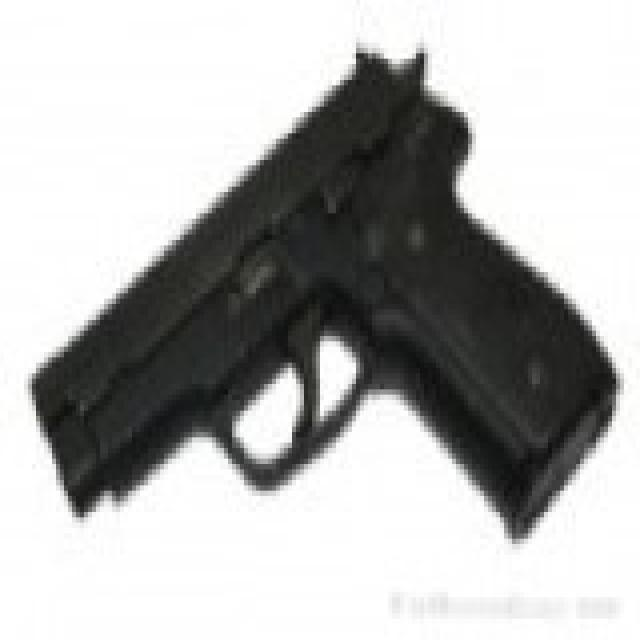Gun: (28, 46, 616, 522)
